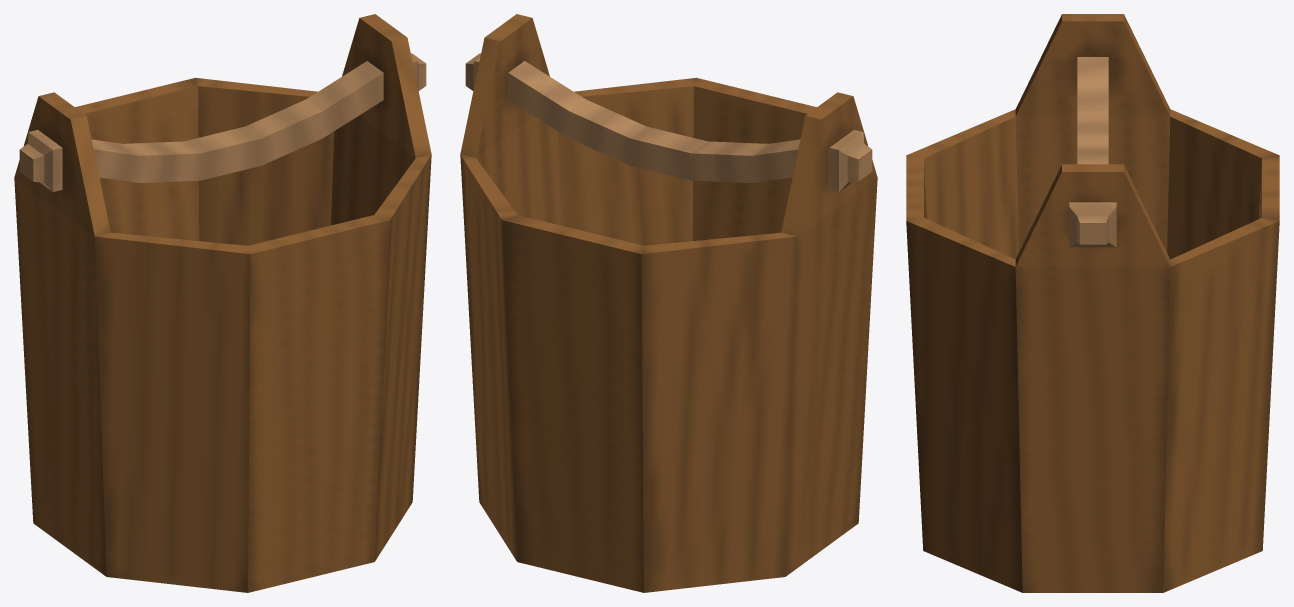
File: Bucket 1.1.fbx
3 views of the same model, side by side, from view 1: azimuth 30°, elevation 25°; view 2: azimuth 150°, elevation 25°; view 3: azimuth 270°, elevation 25° (orthographic). The views are drawn at different scales.
Visible parts, largest first — view 1: Bucket; view 2: Bucket; view 3: Bucket.
Part boxes in pixels (<box>): Bucket: <box>14,14,431,592</box>; Bucket: <box>460,14,877,592</box>; Bucket: <box>906,14,1279,592</box>.
Size of the model in its own units: 116 by 126 by 99.59.
